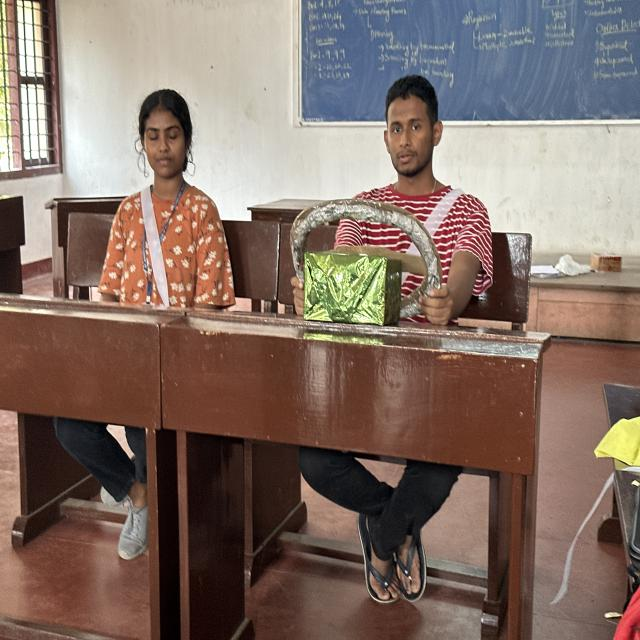seatbelt: (332, 176, 496, 331), (97, 176, 270, 316), (104, 180, 238, 316)
